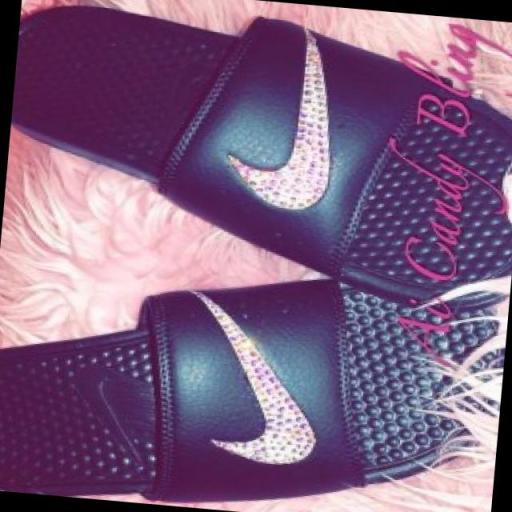Nike: (219, 10, 352, 220)
